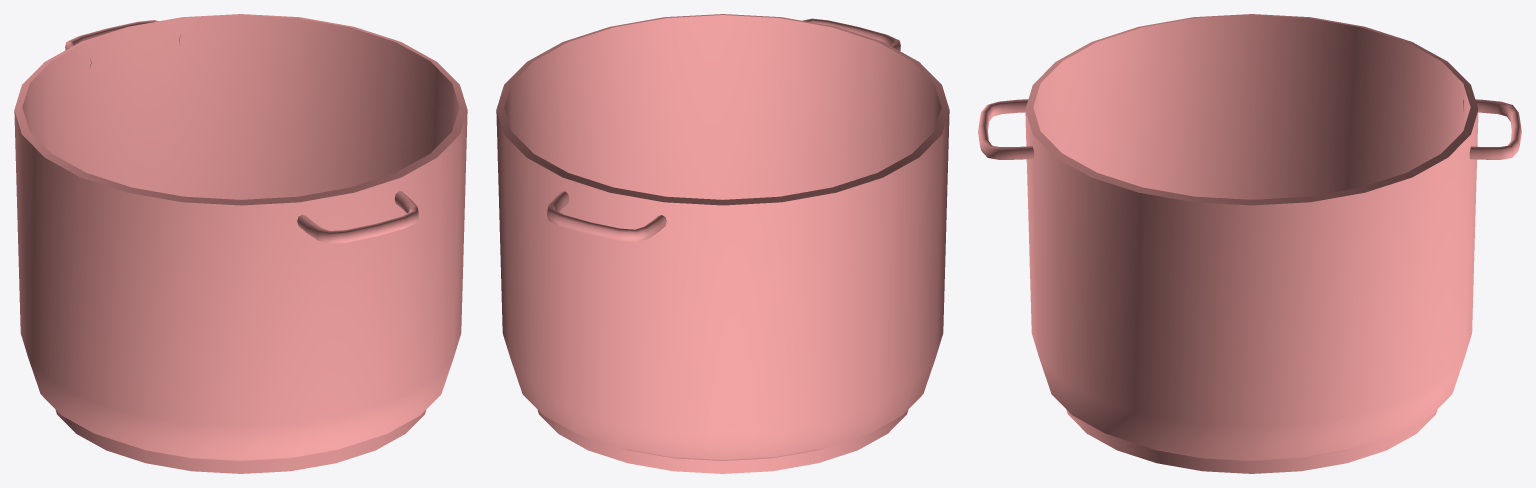
The model's file is TFYK_saucepan_big_high_poly.FBX.
3 views of the same model, side by side, from view 1: azimuth 30°, elevation 25°; view 2: azimuth 150°, elevation 25°; view 3: azimuth 270°, elevation 25° (orthographic).
Parts seen in each view (by area): view 1: TFYK_saucepan_big_high_poly; view 2: TFYK_saucepan_big_high_poly; view 3: TFYK_saucepan_big_high_poly.
Part boxes in pixels (bbox=[...]): TFYK_saucepan_big_high_poly: bbox=[14, 14, 467, 473]; TFYK_saucepan_big_high_poly: bbox=[496, 14, 949, 473]; TFYK_saucepan_big_high_poly: bbox=[978, 14, 1521, 473].
Size of the model in its own units: 0.2474 by 0.1724 by 0.297.
